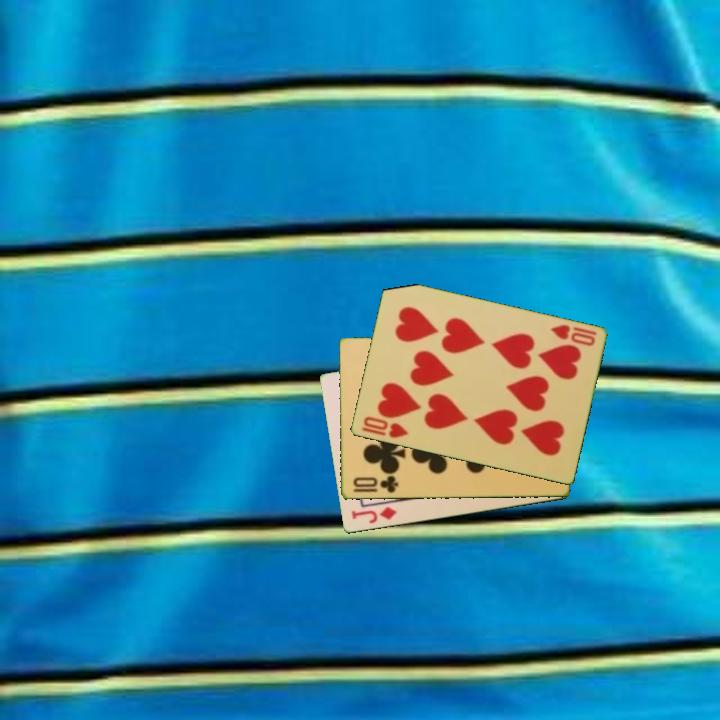10c: (350, 472, 401, 496)
10h: (358, 413, 411, 441), (547, 321, 599, 349)
Jd: (348, 503, 399, 527)
